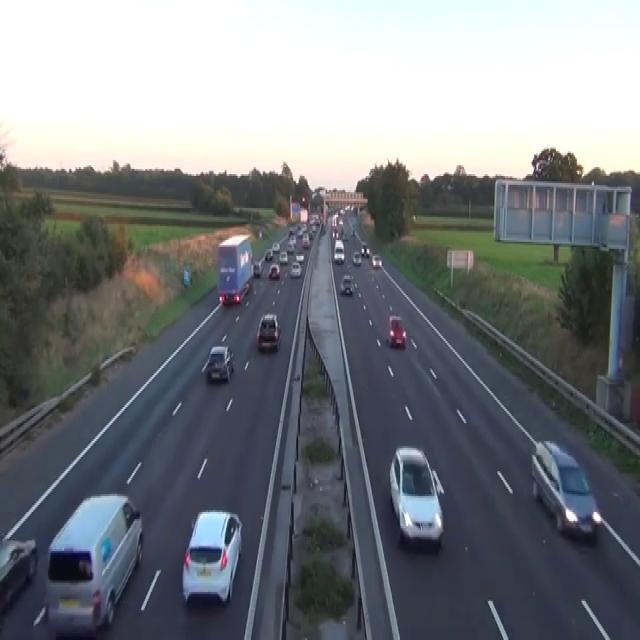Car: (32, 492, 143, 638), (530, 439, 601, 544), (181, 508, 242, 606), (389, 446, 444, 550), (0, 530, 37, 615), (206, 345, 234, 382), (256, 311, 281, 350), (387, 314, 406, 348), (333, 240, 344, 263), (340, 274, 353, 293), (267, 263, 280, 279), (290, 260, 301, 278), (252, 260, 261, 278), (360, 240, 369, 256), (371, 252, 381, 266), (309, 212, 320, 224), (352, 251, 361, 265), (264, 247, 273, 261), (286, 238, 294, 252), (279, 251, 288, 263), (302, 235, 309, 249), (271, 242, 280, 252), (295, 253, 304, 263), (288, 226, 295, 236), (321, 222, 326, 235), (446, 182, 454, 190), (342, 231, 348, 240), (352, 205, 357, 215), (308, 230, 314, 238), (339, 208, 345, 215), (258, 228, 262, 238), (350, 228, 355, 236), (338, 218, 343, 226)
Truck: (217, 233, 253, 306)
